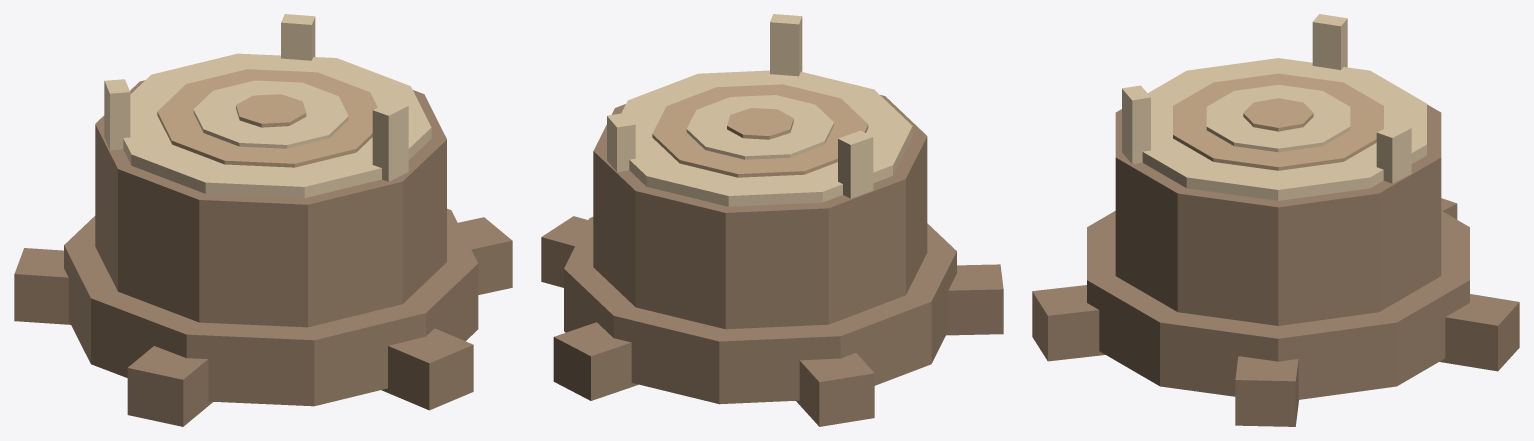
The model's file is stump_oak.glb.
3 renders of one model, left to right at view 1: azimuth 30°, elevation 25°; view 2: azimuth 150°, elevation 25°; view 3: azimuth 270°, elevation 25°, orthographic. The views are drawn at different scales.
Parts seen in each view (by area): view 1: wood_dark, wood_light, wood; view 2: wood_dark, wood_light, wood; view 3: wood_dark, wood_light, wood.
Part boxes in pixels (bbox=[...]): wood_dark: bbox=[14, 80, 512, 426]; wood_light: bbox=[104, 14, 431, 198]; wood: bbox=[157, 69, 377, 167]; wood_dark: bbox=[541, 95, 1003, 426]; wood_light: bbox=[607, 14, 912, 206]; wood: bbox=[652, 84, 868, 177]; wood_dark: bbox=[1032, 104, 1519, 426]; wood_light: bbox=[1122, 14, 1426, 200]; wood: bbox=[1173, 73, 1383, 170].
Size of the model in its own units: 0.468 by 0.275 by 0.4839.
